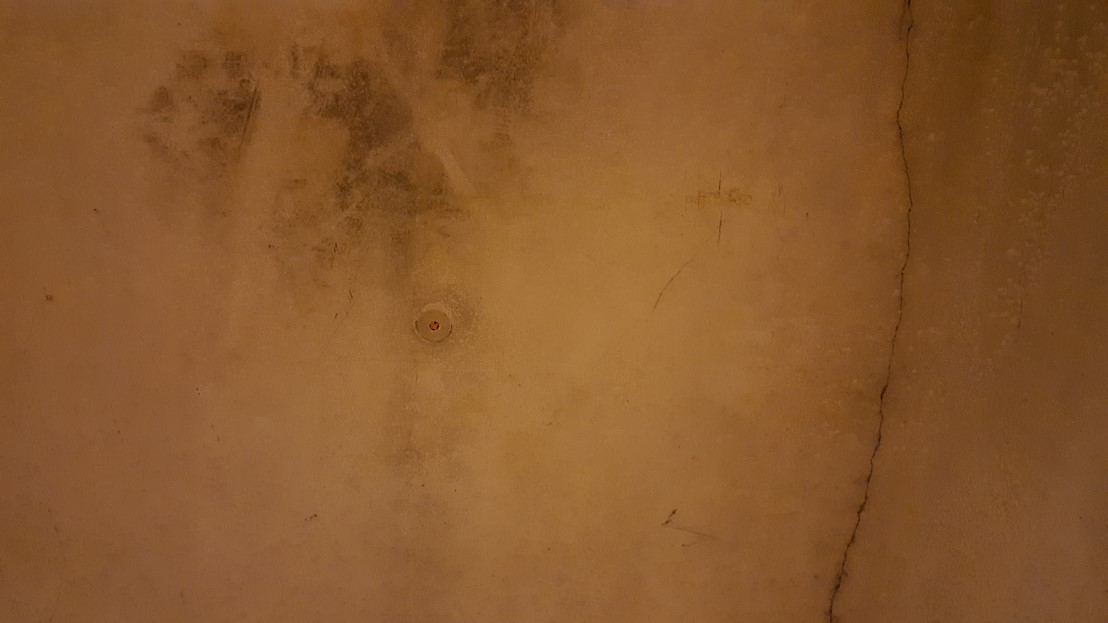Crack: (817, 0, 926, 623), (613, 164, 751, 316)
